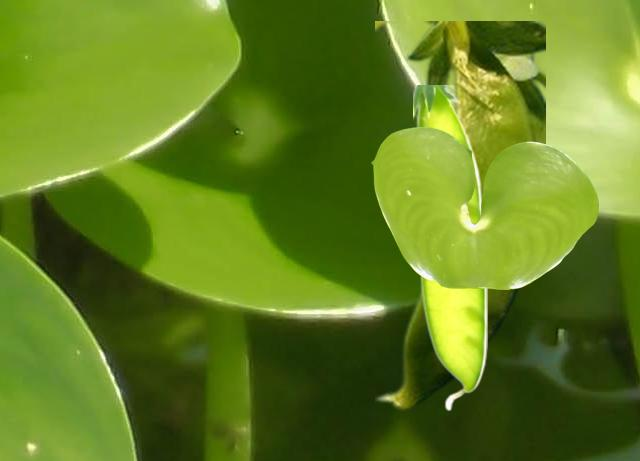pea: (375, 21, 544, 410), (413, 85, 486, 410)
